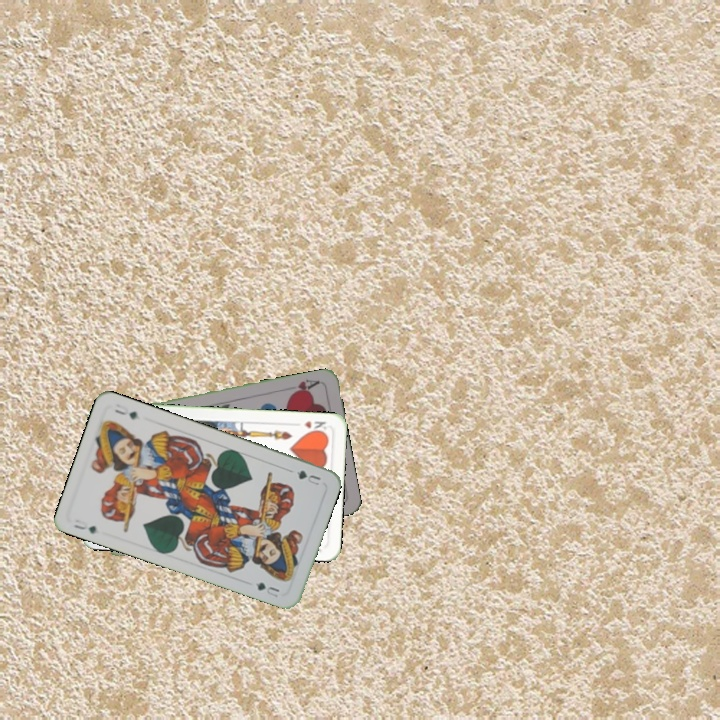GU: (292, 466, 323, 488), (69, 515, 99, 536)
HA: (286, 375, 322, 398)
HK: (300, 417, 330, 436)
